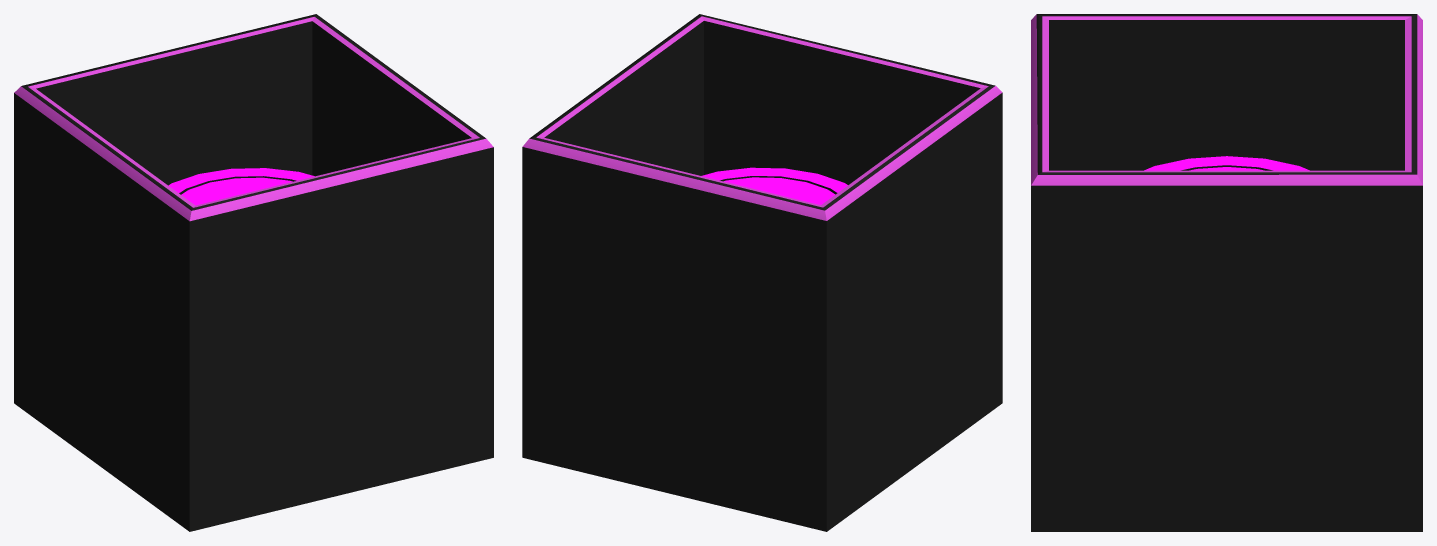
File: Botão_Interagir_R00.fbx
3 renders of one model, left to right at view 1: azimuth 30°, elevation 25°; view 2: azimuth 150°, elevation 25°; view 3: azimuth 270°, elevation 25°, orthographic. The views are drawn at different scales.
Parts seen in each view (by area): view 1: pCube1, pCylinder1; view 2: pCube1, pCylinder1; view 3: pCube1, pCylinder1.
Boxes of the visible parts, box(x1,y1,x2,y2) form: pCube1: box(14, 14, 493, 531); pCylinder1: box(168, 168, 314, 205); pCube1: box(522, 14, 1002, 531); pCylinder1: box(702, 167, 847, 204); pCube1: box(1031, 14, 1422, 531); pCylinder1: box(1144, 156, 1309, 170).
Bounding box in the file's own units: 1 × 1 × 1.
